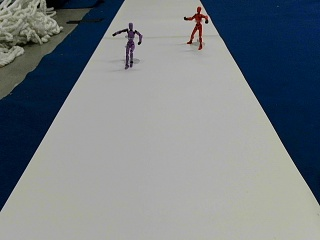pedestrian: (111, 22, 142, 68), (184, 6, 209, 49)
